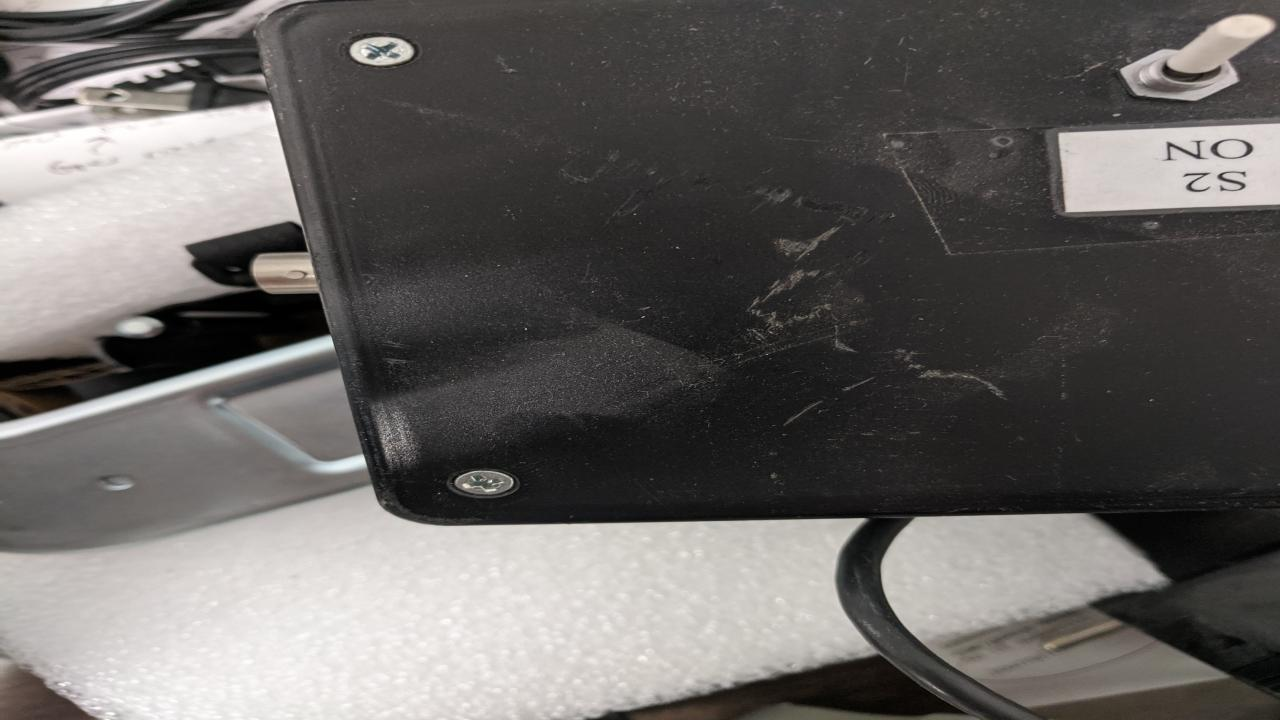CRS: (346, 36, 418, 66), (452, 469, 519, 495)
